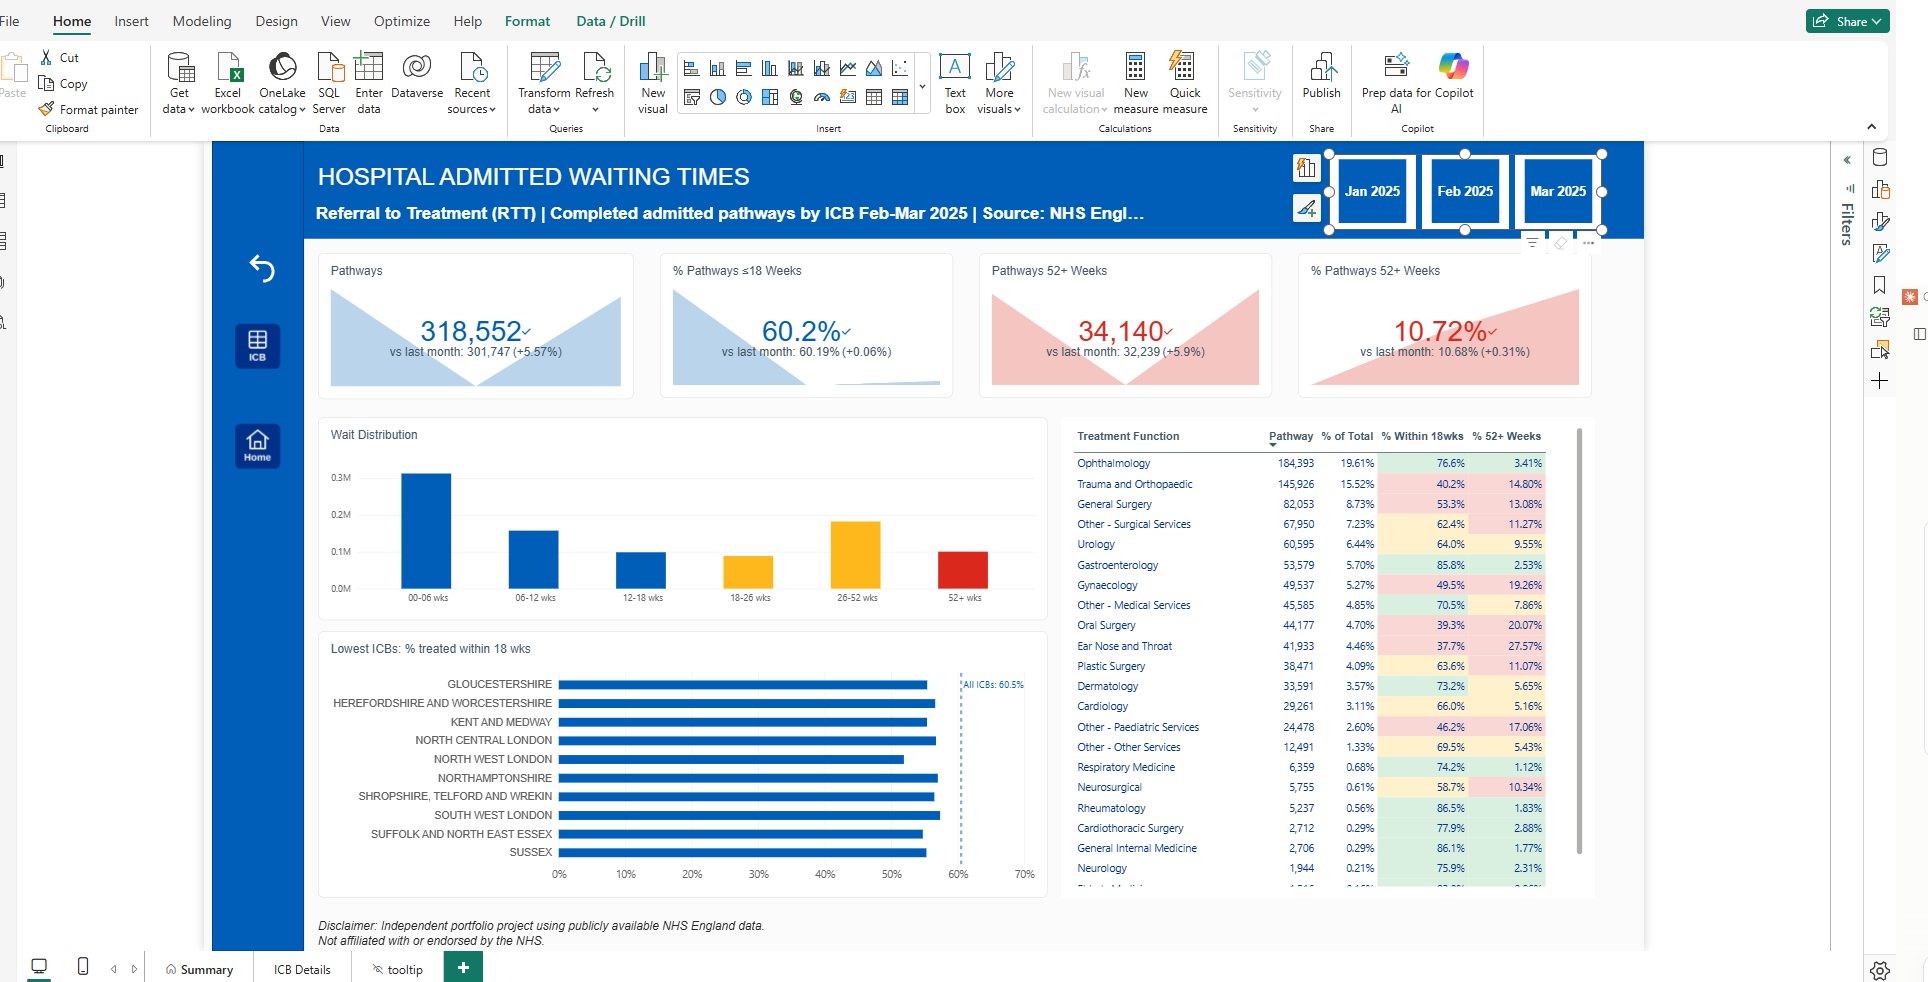

This screenshot's page, from the dashboard's own definition file:
{"tool":"powerbi","page":{"name":"Summary","canvas":[1920,1080],"ordinal":0},"visuals":[{"type":"shape","title":"Nav_Bar","box":[10.5,0,122.7,1080.5],"z":0},{"type":"shape","title":"Header_Bar","box":[133.2,0,1786.8,130.2],"z":1},{"type":"kpi","title":"Pathways","fields":{"Goal":["Measures_Table.Total Pathway LastMonth"],"Indicator":["Measures_Table.Total Pathway"],"TrendLine":["Calendar_Table.Month Year"]},"box":[152.6,149.6,420.5,194.5],"z":4,"group":"g1"},{"type":"kpi","title":"% Pathways ≤18 Weeks","fields":{"Goal":["Measures_Table.% Within 18 weeks last month"],"Indicator":["Measures_Table.% Within 18wks"],"TrendLine":["Calendar_Table.Month Year"]},"box":[608,149.6,390.6,193],"z":5,"group":"g1"},{"type":"kpi","title":"Pathways 52+ Weeks","fields":{"Goal":["Measures_Table.Pathway 52+ weeks last month"],"Indicator":["Measures_Table.Pathway 52+ Weeks"],"TrendLine":["Calendar_Table.Month Year"]},"box":[1033.5,149.6,390.6,193],"z":6,"group":"g1"},{"type":"kpi","title":"% Pathways 52+ Weeks","fields":{"Goal":["Measures_Table.% 52+ weeks last month"],"Indicator":["Measures_Table.% 52+ Weeks"],"TrendLine":["Calendar_Table.Month Year"]},"box":[1459,149.6,392.1,193],"z":7,"group":"g1"},{"type":"clusteredColumnChart","title":"Wait Distribution","fields":{"Category":["Dim_WeekBand.Wait Group"],"Y":["Measures_Table.Total Pathway"]},"box":[152.6,368.1,972.7,270.9],"z":8},{"type":"tableEx","fields":{"Values":["Dim_Specialty.Treatment Function","Measures_Table.Total Pathway","Measures_Table.% All Pathways","Measures_Table.% Within 18wks","Measures_Table.% 52+ Weeks"]},"box":[1143.3,368.1,712.3,642],"z":9},{"type":"advancedSlicerVisual","fields":{"Values":["Calendar_Table.Month Year"]},"box":[1500.1,17.4,364,101.3],"z":10},{"type":"group","id":"g1","title":"Group 1","box":[152.6,149.6,1698.5,194.5],"z":12},{"type":"actionButton","box":[22.9,118.8,109.8,101.1],"z":13},{"type":"actionButton","box":[10.6,234.3,122.5,77.1],"z":14},{"type":"actionButton","box":[10.5,367.6,122.5,77.1],"z":15},{"type":"clusteredBarChart","title":"Lowest ICBs: % treated within 18 wks","fields":{"Category":["Dim_ICB.ICB Short Name"],"Y":["Measures_Table.% Within 18wks"]},"box":[152.6,654,972.7,356.2],"z":16},{"type":"textbox","box":[152.6,1037.1,909.9,43.4],"z":17},{"type":"cardVisual","fields":{"Data":["Measures_Table.Header Subtitle"]},"box":[133.2,64.3,1141.8,65.8],"z":18},{"type":"textbox","box":[152.6,29.9,633,49.4],"z":19}]}

Visuals, with their boxes on the page's 1920x1080 design canvas (x1, y1, x2, y2). These are canvas units, not pixel positions in the 1928x982 screenshot, which may show the page scaled, cropped or inside an application window:
"Nav_Bar" shape: left=10, top=0, right=133, bottom=1080
"Header_Bar" shape: left=133, top=0, right=1920, bottom=130
"Pathways" kpi: left=153, top=150, right=573, bottom=344
"% Pathways ≤18 Weeks" kpi: left=608, top=150, right=999, bottom=343
"Pathways 52+ Weeks" kpi: left=1034, top=150, right=1424, bottom=343
"% Pathways 52+ Weeks" kpi: left=1459, top=150, right=1851, bottom=343
"Wait Distribution" clusteredColumnChart: left=153, top=368, right=1125, bottom=639
tableEx - Dim_Specialty.Treatment Function x Measures_Table.Total Pathway: left=1143, top=368, right=1856, bottom=1010
advancedSlicerVisual - Calendar_Table.Month Year: left=1500, top=17, right=1864, bottom=119
"Group 1" group: left=153, top=150, right=1851, bottom=344
actionButton: left=23, top=119, right=133, bottom=220
actionButton: left=11, top=234, right=133, bottom=311
actionButton: left=10, top=368, right=133, bottom=445
"Lowest ICBs: % treated within 18 wks" clusteredBarChart: left=153, top=654, right=1125, bottom=1010
textbox: left=153, top=1037, right=1062, bottom=1080
cardVisual - Measures_Table.Header Subtitle: left=133, top=64, right=1275, bottom=130
textbox: left=153, top=30, right=786, bottom=79
